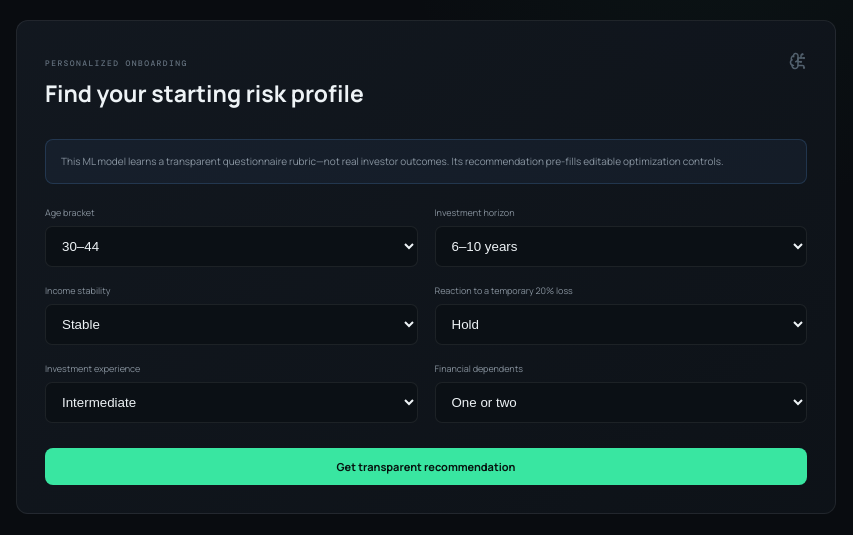
Scenario: RiskQuestionnaire › shows a visible loading state while classification is running
Click the button "Get transparent recommendation" at [426, 466], box [45,448,807,484]
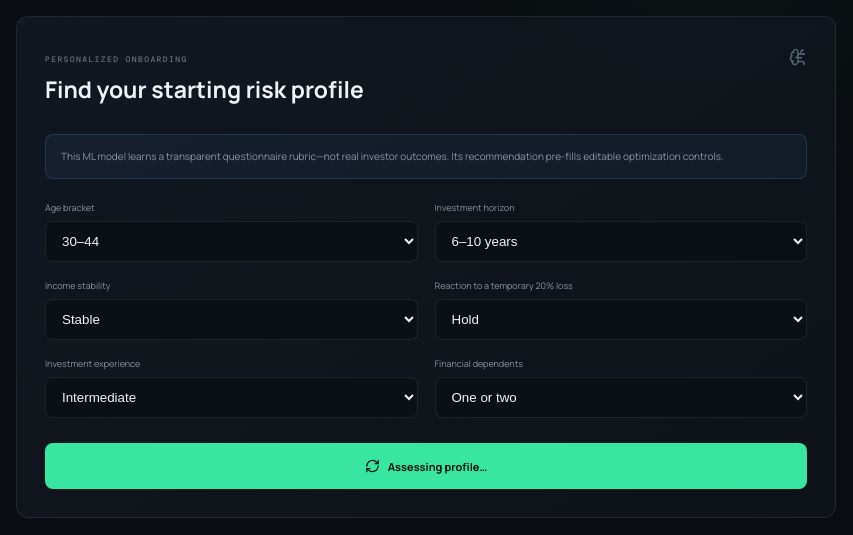
Check: the button "Assessing profile…" is disabled, box [45,443,807,489]
